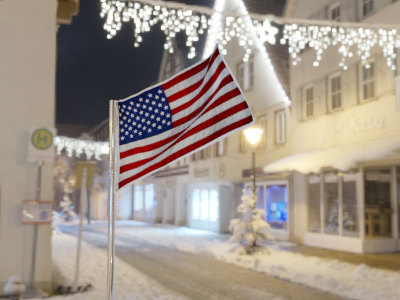America flag: (115, 40, 254, 190)
